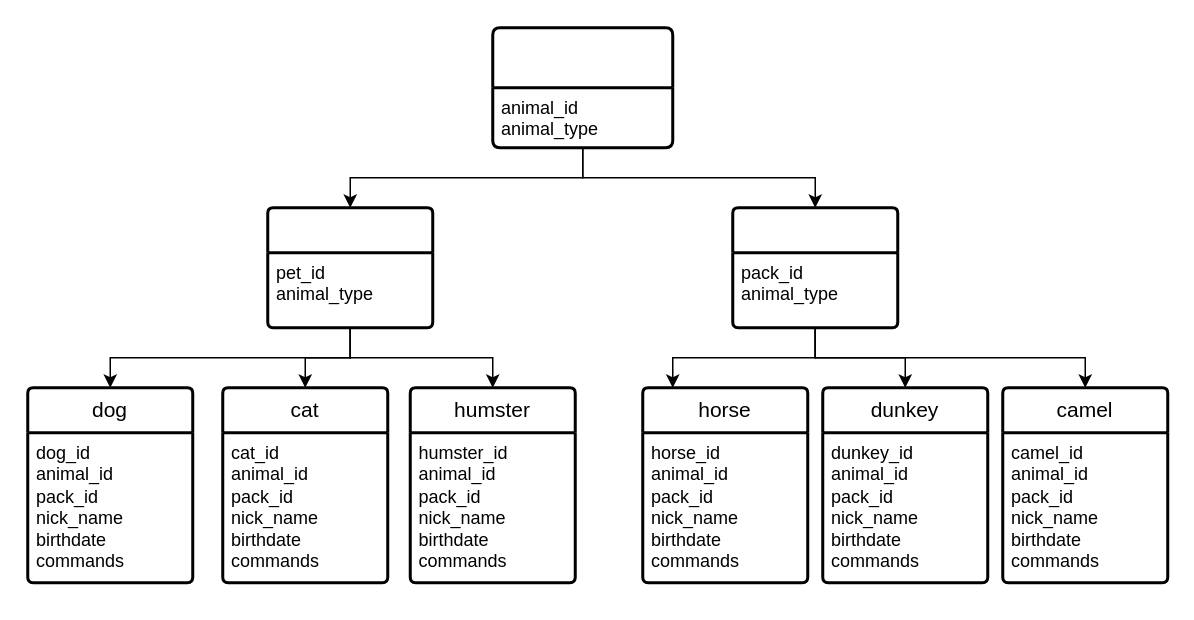
The diagram is 1194 pixels wide and 620 high, and some of its shapes have lost their labels. Each missing label, with the box of its shape:
Pack_animals: (730, 206, 898, 328)
Pets: (266, 206, 434, 328)
Животные: (490, 26, 674, 148)
